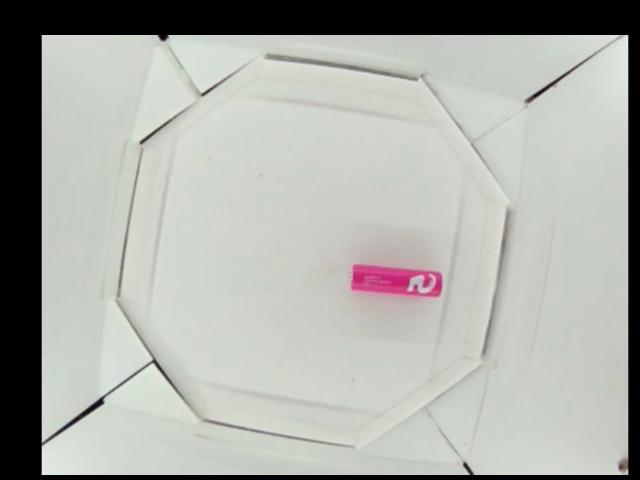Battery: (348, 265, 444, 296)
